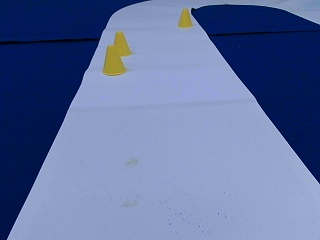cone: (101, 45, 126, 75), (113, 32, 131, 56), (178, 8, 192, 27)
